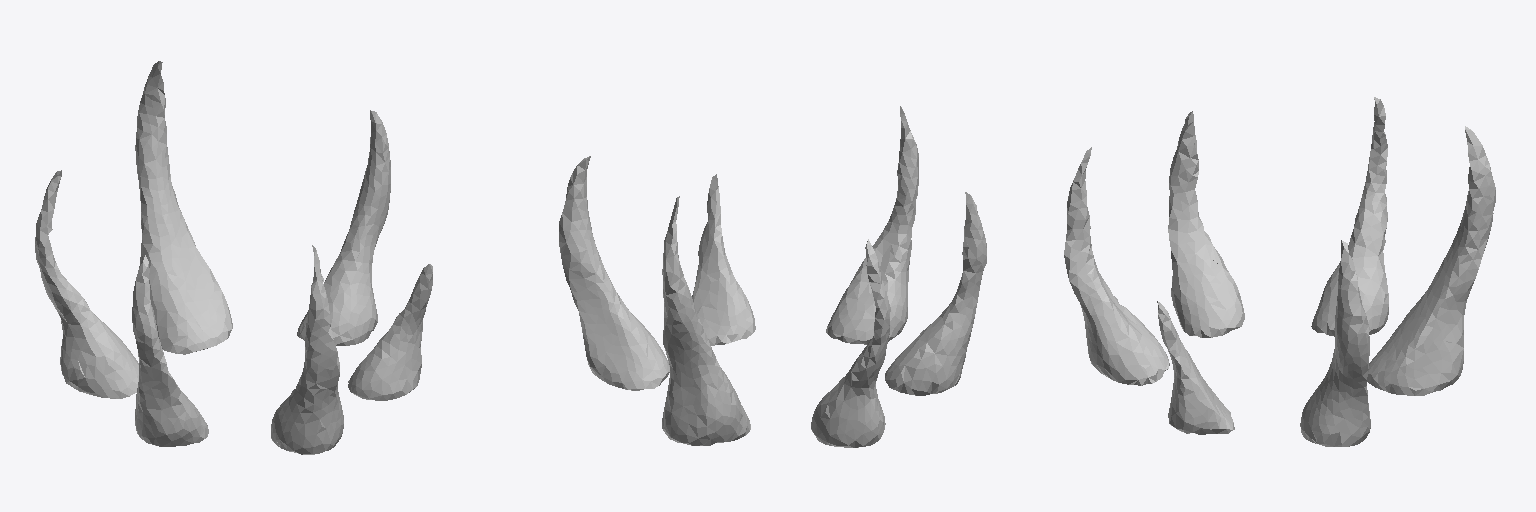
The model's file is armstrongpillar.obj.
The picture shows the model from 3 angles: view 1: azimuth 30°, elevation 25°; view 2: azimuth 150°, elevation 25°; view 3: azimuth 270°, elevation 25°; orthographic projection.
Visible parts, largest first — view 1: Icosphere; view 2: Icosphere; view 3: Icosphere.
Boxes of the visible parts, <box> form: Icosphere: <box>35,61,432,454</box>; Icosphere: <box>559,106,986,447</box>; Icosphere: <box>1064,97,1495,446</box>.
Bounding box in the file's own units: 7.85 × 5.67 × 8.65.